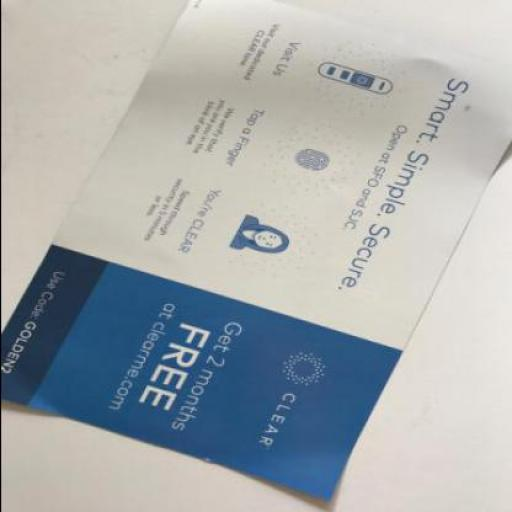paper: (0, 0, 511, 501)
